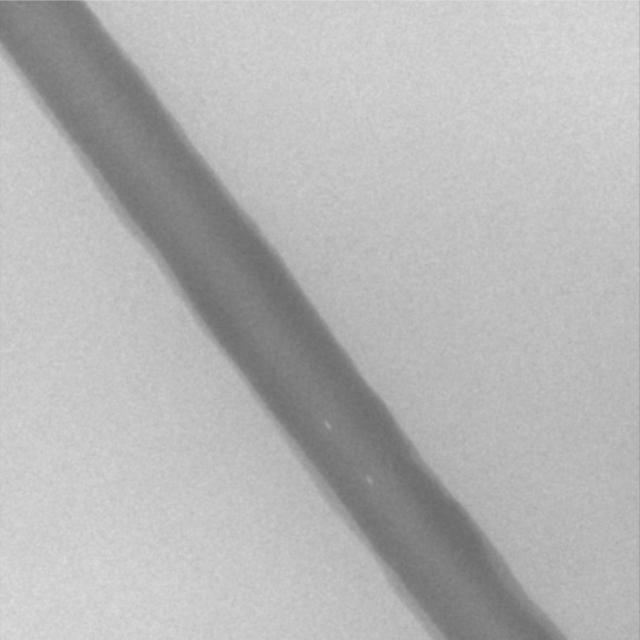air hole: (365, 475, 374, 486), (323, 420, 332, 431)
